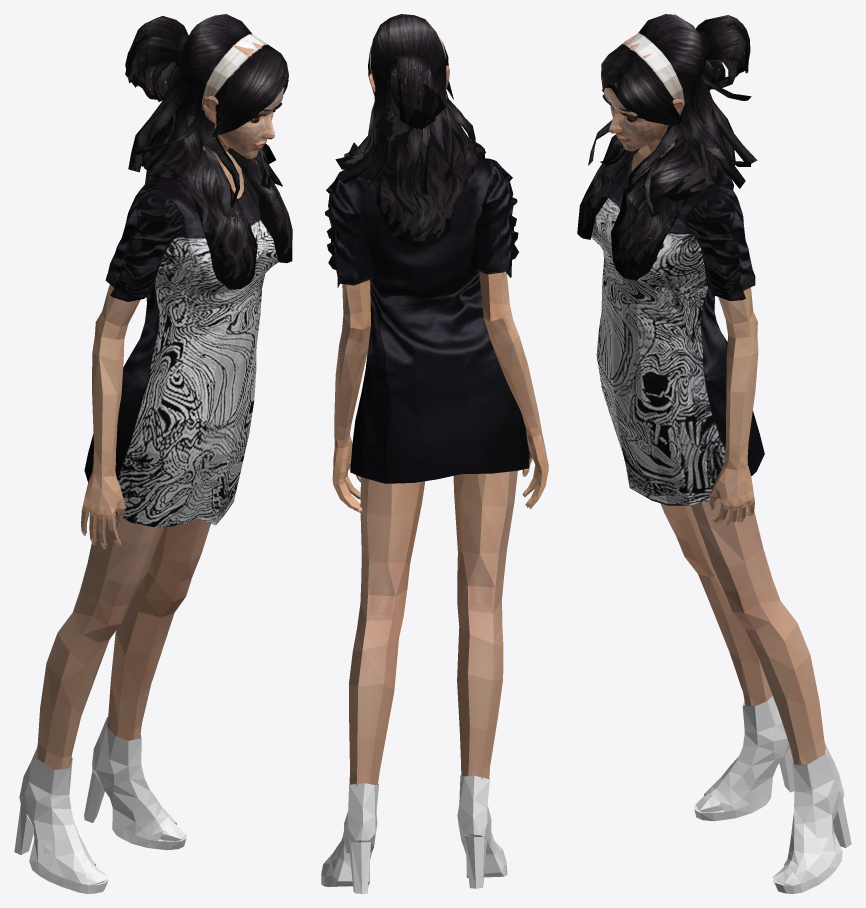
The model's file is elexis.obj.
3 views of the same model, side by side, from view 1: azimuth 30°, elevation 25°; view 2: azimuth 150°, elevation 25°; view 3: azimuth 270°, elevation 25° (orthographic). The views are drawn at different scales.
Parts seen in each view (by area): view 1: girl_pivot; view 2: girl_pivot; view 3: girl_pivot.
Boxes of the visible parts, <box> form: girl_pivot: <box>14,14,292,893</box>; girl_pivot: <box>321,14,548,893</box>; girl_pivot: <box>577,14,851,893</box>.
Size of the model in its own units: 0.363 by 1.51 by 0.4345.
Materials: 10 (8 with a texture image).
